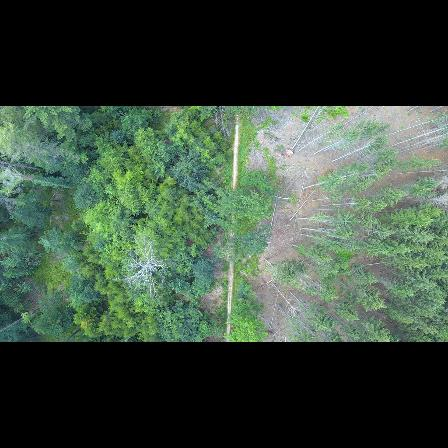Dead: (114, 237, 168, 287)
